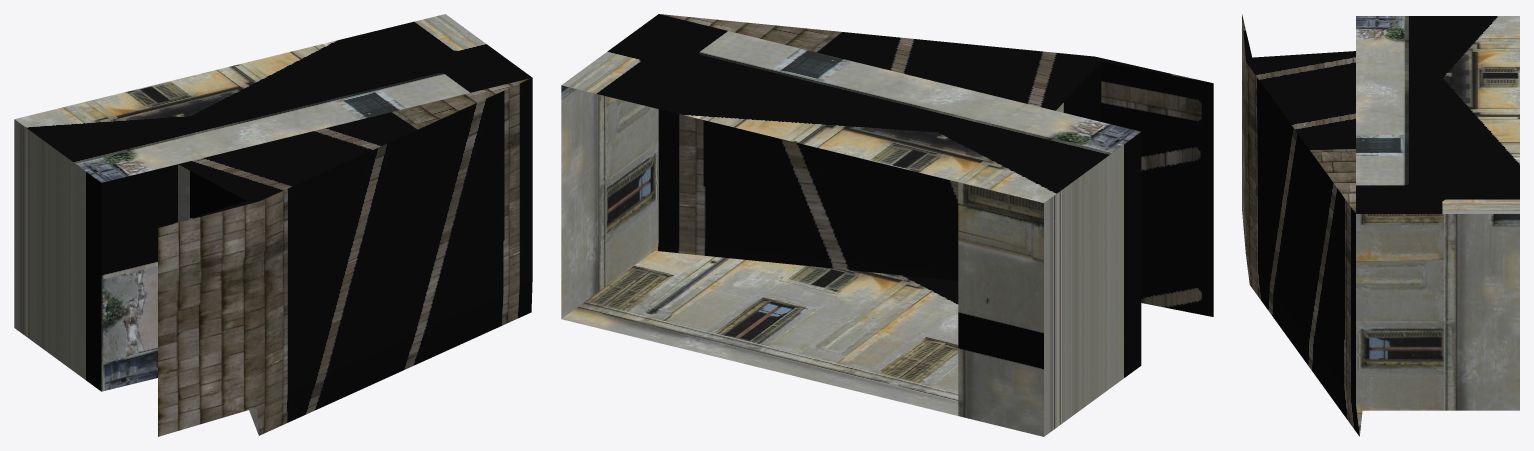
File: houseduchamp02_wtf.obj
3 views of the same model, side by side, from view 1: azimuth 30°, elevation 25°; view 2: azimuth 150°, elevation 25°; view 3: azimuth 270°, elevation 25° (orthographic). The views are drawn at different scales.
Visible parts, largest first — view 1: group2; view 2: group2; view 3: group2.
Boxes of the visible parts, x1,y1,x2,y2 form: group2: [14, 14, 532, 436]; group2: [561, 14, 1213, 436]; group2: [1242, 14, 1519, 436].
Size of the model in its own units: 660 by 342 by 387.
